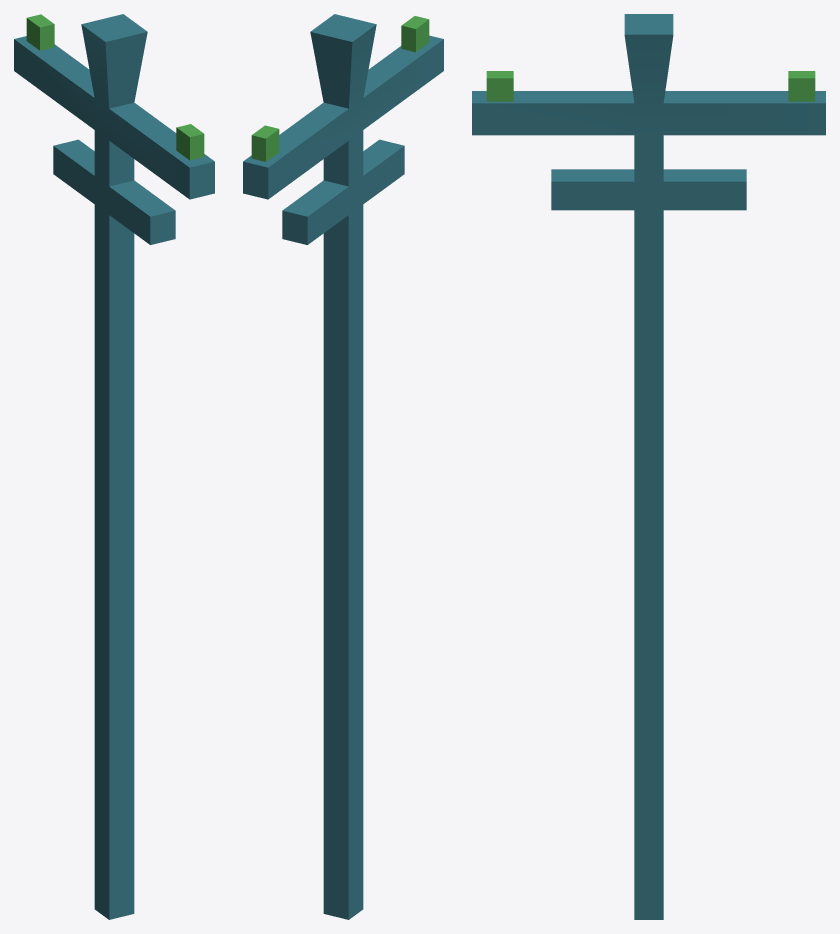
Rendered from TelePole_01.fbx.
3 views of the same model, side by side, from view 1: azimuth 30°, elevation 25°; view 2: azimuth 150°, elevation 25°; view 3: azimuth 270°, elevation 25° (orthographic).
Parts seen in each view (by area): view 1: pCube135; view 2: pCube135; view 3: pCube135.
Part boxes in pixels (x1,y1,x2,y2): pCube135: (14, 14, 214, 919); pCube135: (243, 14, 443, 919); pCube135: (472, 14, 825, 919).
Bounding box in the file's own units: 0.4974 × 9.96 × 3.59.
1 material, 1 textured.
